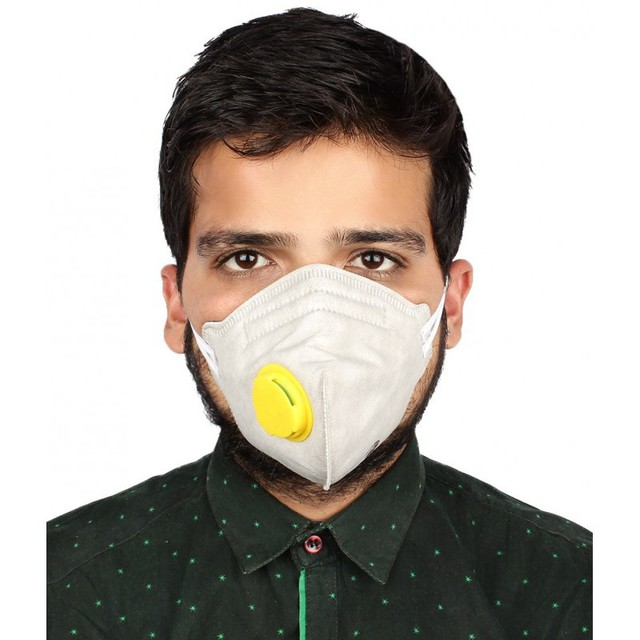mask: (204, 298, 426, 473)
